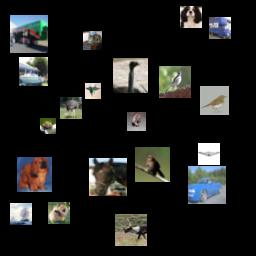airplane: (198, 143, 220, 165), (85, 83, 101, 99)
automobile: (188, 166, 226, 204)
bird: (135, 147, 170, 182), (113, 58, 148, 93), (159, 66, 191, 98), (200, 86, 229, 115), (60, 97, 82, 119)
cat: (127, 112, 146, 131), (83, 31, 102, 50)
deer: (115, 214, 147, 246)
dog: (17, 157, 52, 192), (48, 202, 70, 224), (180, 6, 202, 28)
frog: (40, 118, 56, 134)
ship: (19, 57, 48, 86), (10, 203, 32, 225)
truck: (10, 15, 48, 53), (209, 17, 231, 39)
